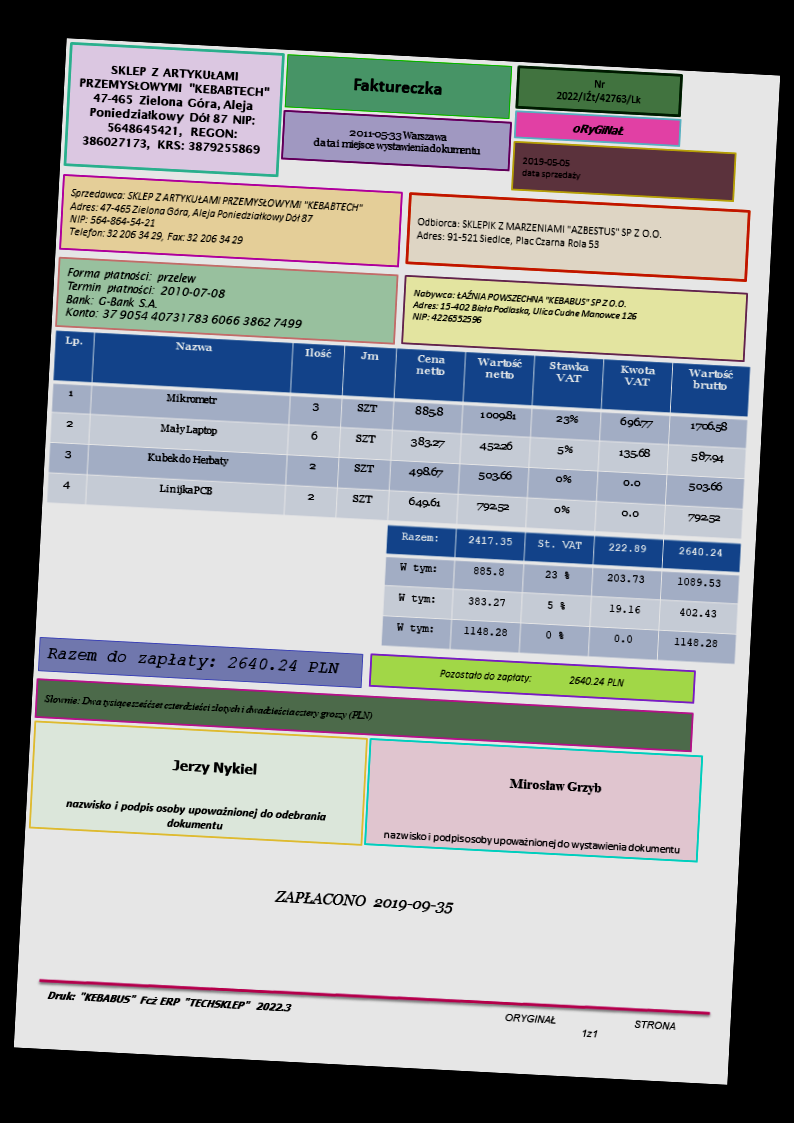Table: (44, 329, 752, 539), (380, 524, 742, 664)
TextBox: (65, 185, 364, 255), (73, 59, 273, 157), (61, 265, 306, 332), (409, 285, 639, 334), (41, 692, 375, 725), (414, 213, 663, 254), (45, 644, 341, 677), (46, 987, 293, 1014), (310, 122, 484, 158), (501, 1011, 678, 1043), (271, 887, 455, 916), (437, 666, 625, 690), (554, 74, 645, 107), (349, 75, 444, 98), (169, 756, 259, 779), (519, 154, 585, 183), (508, 776, 603, 796), (569, 119, 628, 138)
